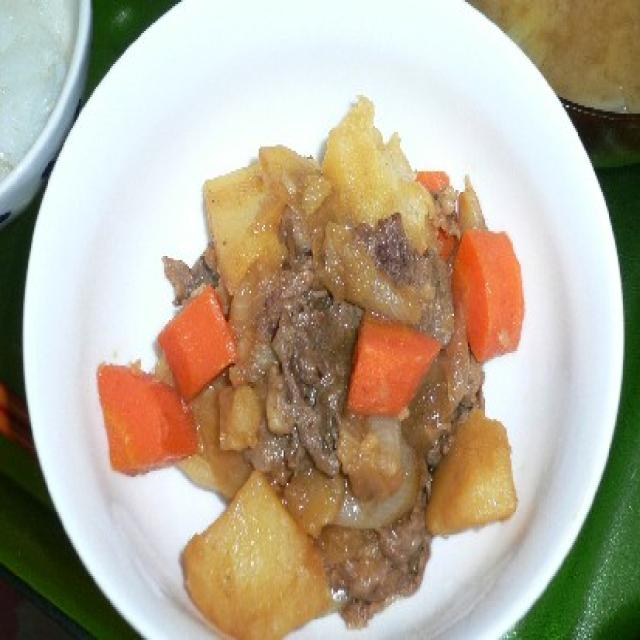牛肉菜式: (93, 66, 538, 640)
